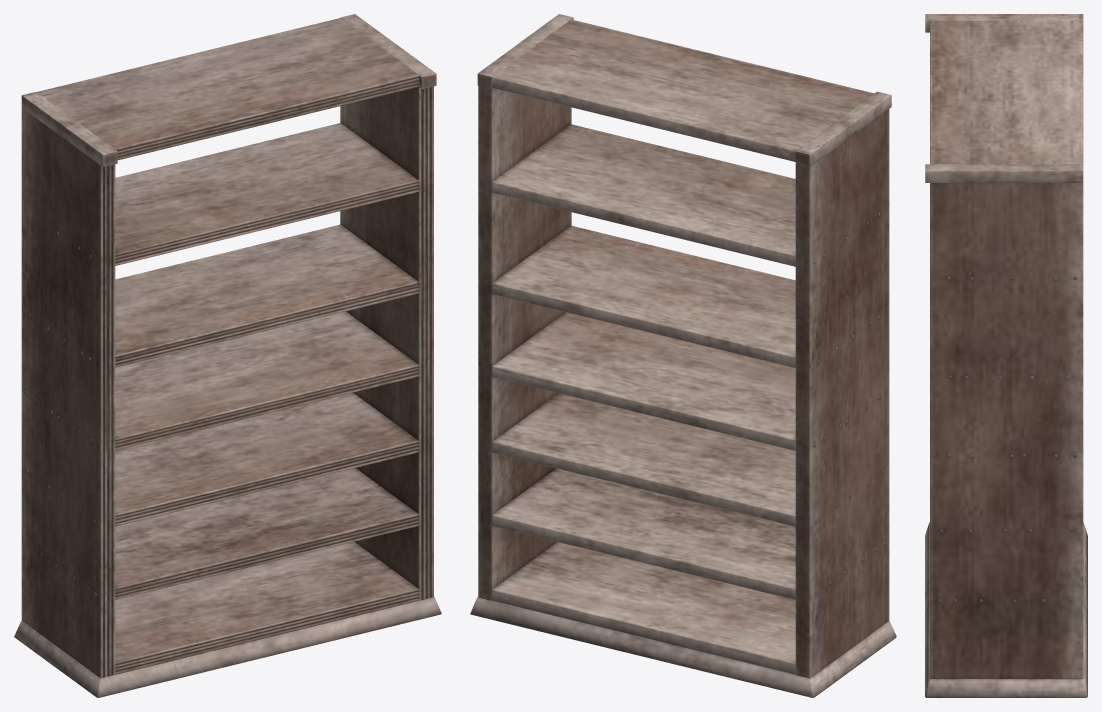
Rendered from wooden_bookshelf_worn_web.glb.
3 renders of one model, left to right at view 1: azimuth 30°, elevation 25°; view 2: azimuth 150°, elevation 25°; view 3: azimuth 270°, elevation 25°, orthographic. The views are drawn at different scales.
Parts seen in each view (by area): view 1: WornBookshelfModel; view 2: WornBookshelfModel; view 3: WornBookshelfModel.
Boxes of the visible parts, x1=… form: WornBookshelfModel: x1=14, y1=14, x2=441, y2=697; WornBookshelfModel: x1=470, y1=14, x2=896, y2=697; WornBookshelfModel: x1=925, y1=14, x2=1087, y2=697.
Bounding box in the file's own units: 1.4 × 2.1 × 0.5916.
Materials: 1 (1 with a texture image).
